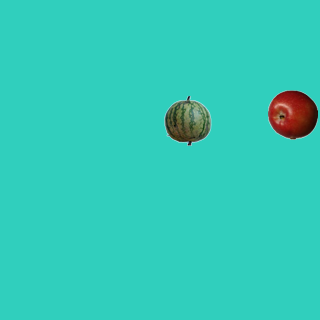Apple Braeburn: (267, 89, 317, 139)
Watermelon: (162, 95, 212, 145)
